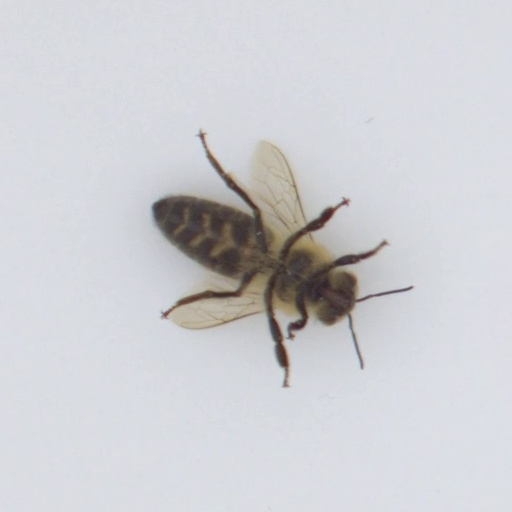Bee: (136, 173, 374, 334)
